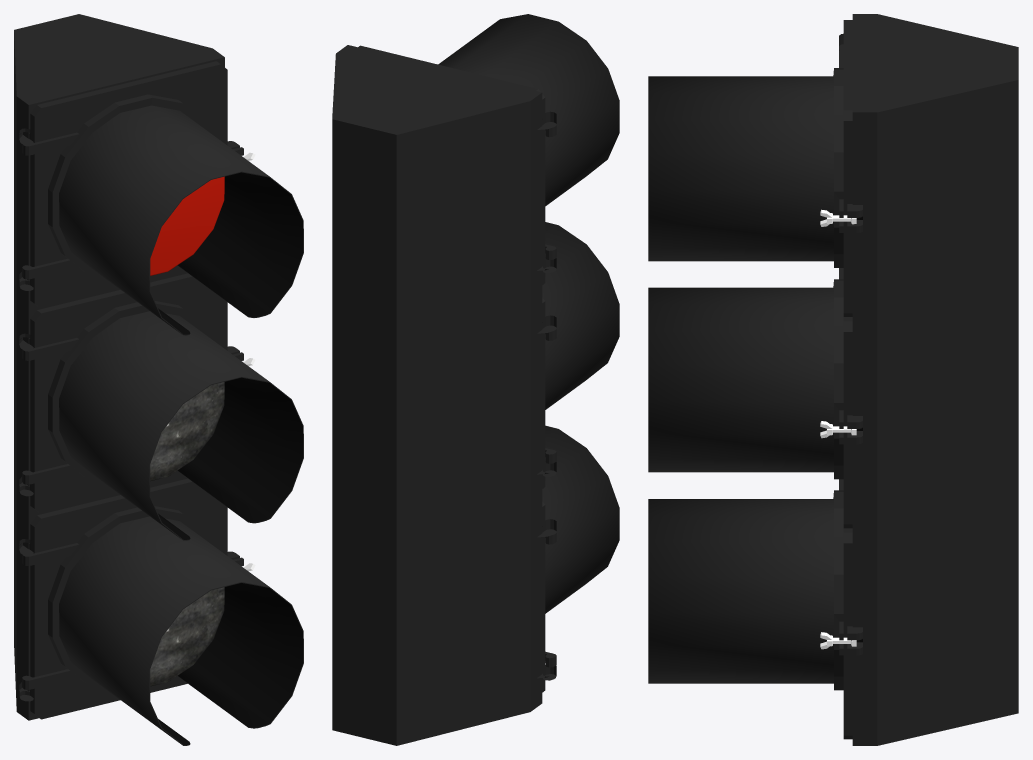
The model's file is red.gltf.
The picture shows the model from 3 angles, left to right: view 1: azimuth 30°, elevation 25°; view 2: azimuth 150°, elevation 25°; view 3: azimuth 270°, elevation 25°; orthographic projection. The views are drawn at different scales.
Parts seen in each view (by area): view 1: Cylinder.299; view 2: Cylinder.299; view 3: Cylinder.299.
Boxes of the visible parts, x1,y1,x2,y2 form: Cylinder.299: [14, 14, 303, 745]; Cylinder.299: [332, 14, 619, 745]; Cylinder.299: [648, 14, 1018, 745].
Size of the model in its own units: 0.3053 by 0.8096 by 0.4291.
Materials: 7 (2 with a texture image).
